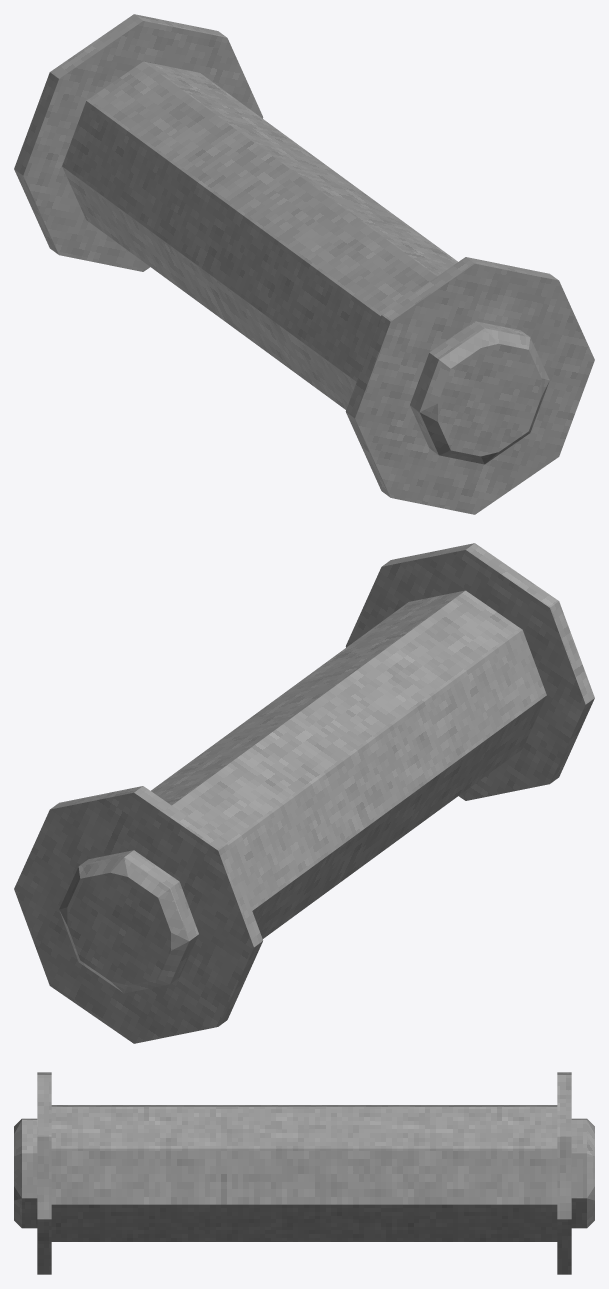
File: pipe.glb
The picture shows the model from 3 angles, top to bottom: view 1: azimuth 30°, elevation 25°; view 2: azimuth 150°, elevation 25°; view 3: azimuth 270°, elevation 25°; orthographic projection. The views are drawn at different scales.
Parts seen in each view (by area): view 1: Cube; view 2: Cube; view 3: Cube.
Boxes of the visible parts, bbox=[...] form: Cube: bbox=[14, 14, 594, 514]; Cube: bbox=[14, 543, 594, 1043]; Cube: bbox=[14, 1072, 594, 1274].
Size of the model in its own units: 1 by 1 by 2.67.
Materials: 1 (1 with a texture image).
